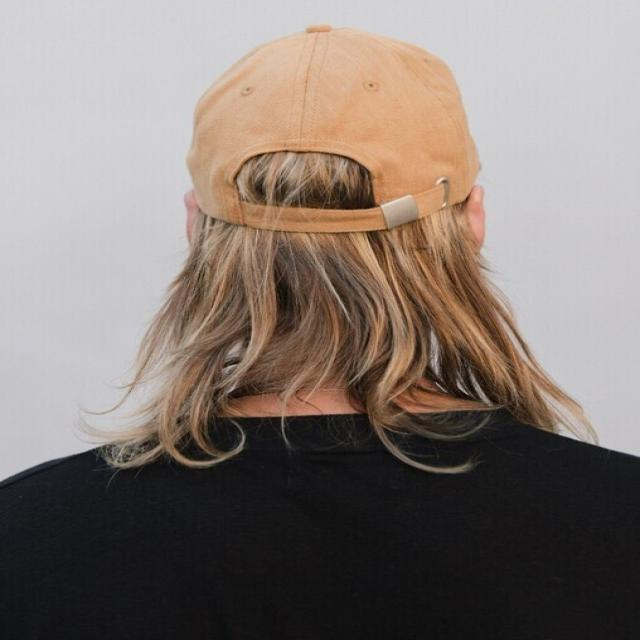Nonhelmet: (155, 16, 537, 405)
